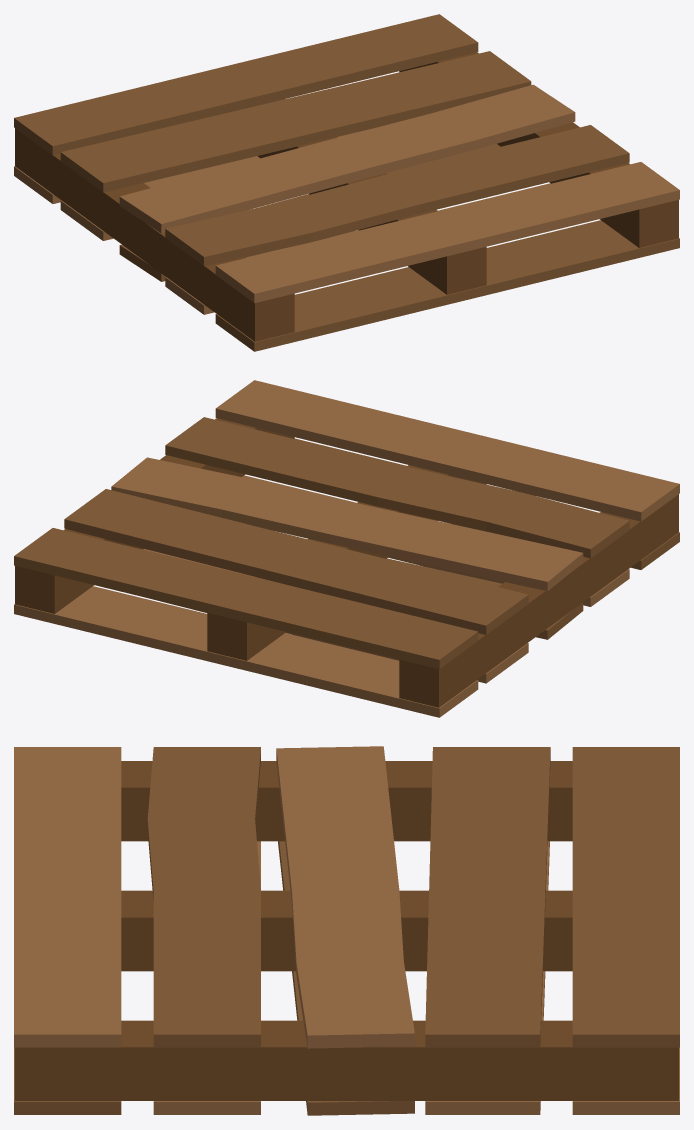
Rendered from SM_Props_Pallet_01.glb.
3 views of the same model, one above another, from view 1: azimuth 30°, elevation 25°; view 2: azimuth 150°, elevation 25°; view 3: azimuth 270°, elevation 25° (orthographic). The views are drawn at different scales.
Visible parts, largest first — view 1: SM_Props_Pallet_01; view 2: SM_Props_Pallet_01; view 3: SM_Props_Pallet_01.
Boxes of the visible parts, x1,y1,x2,y2 form: SM_Props_Pallet_01: (14, 14, 679, 351); SM_Props_Pallet_01: (14, 380, 679, 717); SM_Props_Pallet_01: (14, 746, 679, 1115).
Bounding box in the file's own units: 1.21 × 0.1568 × 1.18.
Materials: 1 (1 with a texture image).
